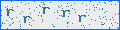r: (6, 8, 14, 17), (78, 14, 86, 22), (61, 10, 70, 17), (42, 7, 50, 14), (23, 16, 31, 23)
